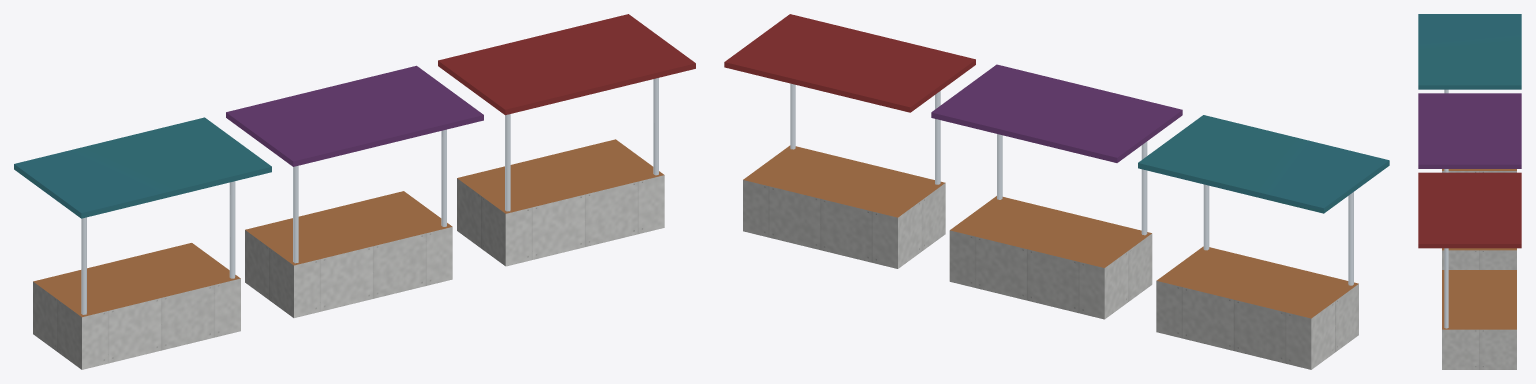
Rendered from prop_market_stall_row.glb.
The picture shows the model from 3 angles, left to right: view 1: azimuth 30°, elevation 25°; view 2: azimuth 150°, elevation 25°; view 3: azimuth 270°, elevation 25°; orthographic projection. The views are drawn at different scales.
Parts seen in each view (by area): view 1: prop_market_stall_row_LOD0; view 2: prop_market_stall_row_LOD0; view 3: prop_market_stall_row_LOD0.
Boxes of the visible parts, x1,y1,x2,y2 form: prop_market_stall_row_LOD0: [14, 14, 695, 369]; prop_market_stall_row_LOD0: [724, 14, 1389, 369]; prop_market_stall_row_LOD0: [1418, 14, 1521, 369].
Size of what is drawn, in the model's own units: 11.6 by 3.1 by 2.2.
2 materials, 2 textured.
